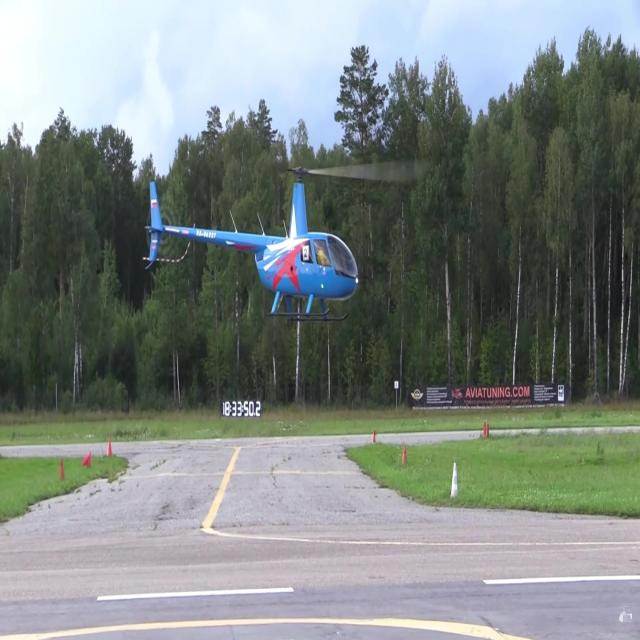CIV_HELO: (140, 165, 362, 326)
